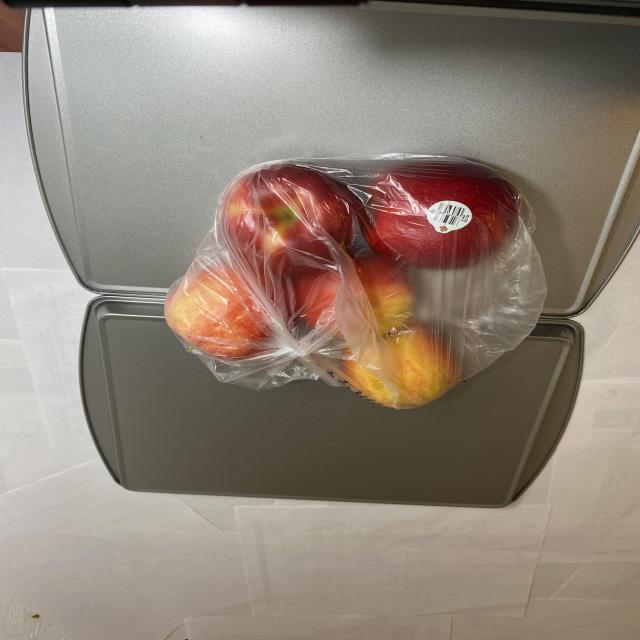apple: (156, 156, 538, 410)
